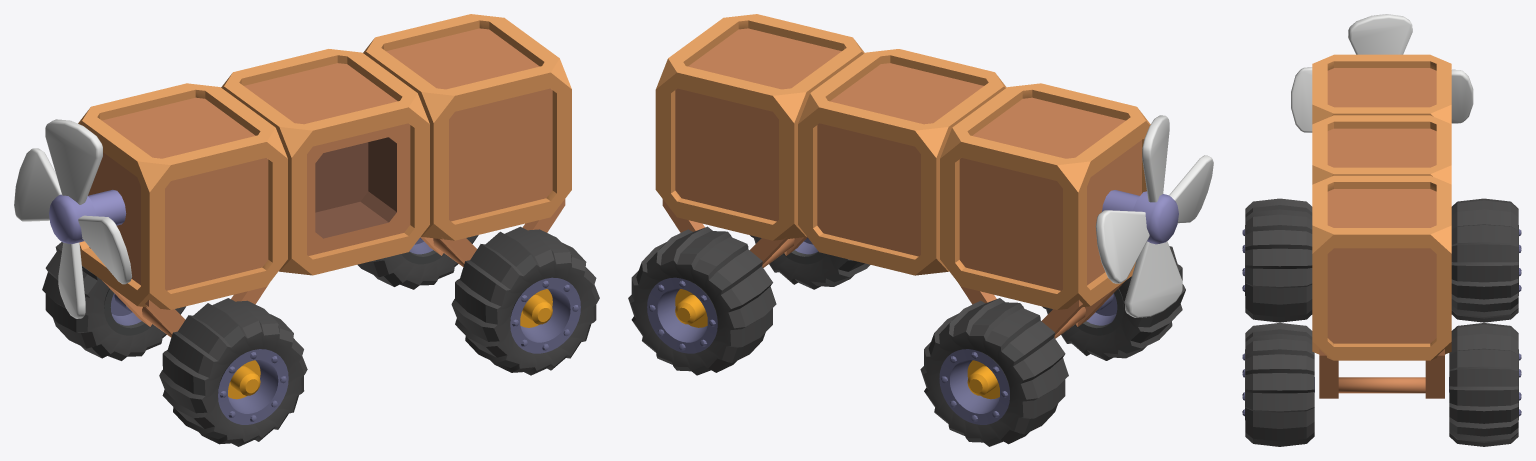
File: Machine.fbx
3 views of the same model, side by side, from view 1: azimuth 30°, elevation 25°; view 2: azimuth 150°, elevation 25°; view 3: azimuth 270°, elevation 25° (orthographic). The views are drawn at different scales.
Visible parts, largest first — view 1: Box, Box.001, DBlock_Full.001, wheel_front, wheel_back, booster, wheel_back.001, wheel_front.001, frame_wheel, frame_wheel.001; view 2: Box, Box.001, DBlock_Full.001, wheel_front.001, wheel_back.001, booster, wheel_back, wheel_front, frame_wheel, frame_wheel.001; view 3: Box.001, Box, DBlock_Full.001, wheel_front, wheel_front.001, wheel_back, wheel_back.001, booster, frame_wheel.001.
Boxes of the visible parts, x1=… form: Box: x1=78, y1=83, x2=287, y2=309; Box.001: x1=363, y1=14, x2=571, y2=240; DBlock_Full.001: x1=221, y1=49, x2=429, y2=275; wheel_front: x1=451, y1=226, x2=599, y2=375; wheel_back: x1=159, y1=298, x2=307, y2=446; booster: x1=14, y1=119, x2=131, y2=318; wheel_back.001: x1=42, y1=242, x2=185, y2=360; wheel_front.001: x1=357, y1=235, x2=478, y2=289; frame_wheel: x1=102, y1=280, x2=268, y2=337; frame_wheel.001: x1=420, y1=199, x2=565, y2=266; Box: x1=940, y1=83, x2=1150, y2=309; Box.001: x1=655, y1=14, x2=864, y2=240; DBlock_Full.001: x1=798, y1=49, x2=1006, y2=275; wheel_front.001: x1=628, y1=226, x2=776, y2=375; wheel_back.001: x1=920, y1=298, x2=1068, y2=446; booster: x1=1095, y1=115, x2=1213, y2=317; wheel_back: x1=1042, y1=246, x2=1185, y2=360; wheel_front: x1=750, y1=235, x2=870, y2=289; frame_wheel: x1=959, y1=281, x2=1124, y2=338; frame_wheel.001: x1=662, y1=199, x2=807, y2=267; Box.001: x1=1312, y1=175, x2=1451, y2=360; Box: x1=1312, y1=54, x2=1451, y2=124; DBlock_Full.001: x1=1312, y1=115, x2=1451, y2=184; wheel_front: x1=1242, y1=323, x2=1314, y2=446; wheel_front.001: x1=1449, y1=323, x2=1521, y2=446; wheel_back: x1=1242, y1=198, x2=1312, y2=322; wheel_back.001: x1=1451, y1=198, x2=1521, y2=322; booster: x1=1291, y1=14, x2=1473, y2=132; frame_wheel.001: x1=1319, y1=349, x2=1444, y2=398.
Size of the model in its own units: 855 by 507 by 499.
2 materials, 2 textured.
